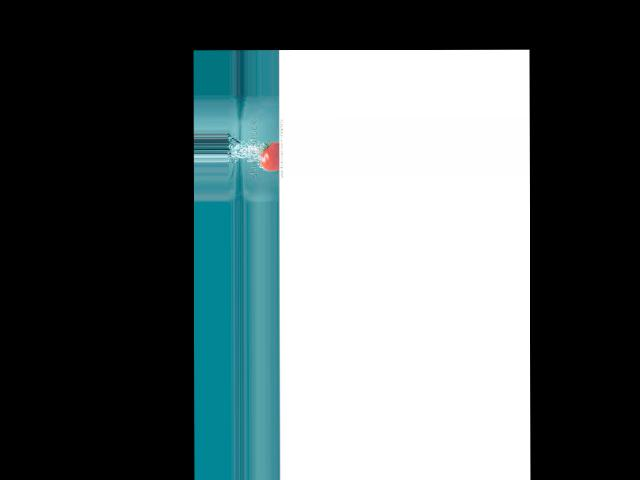tomato: (260, 141, 279, 170)
